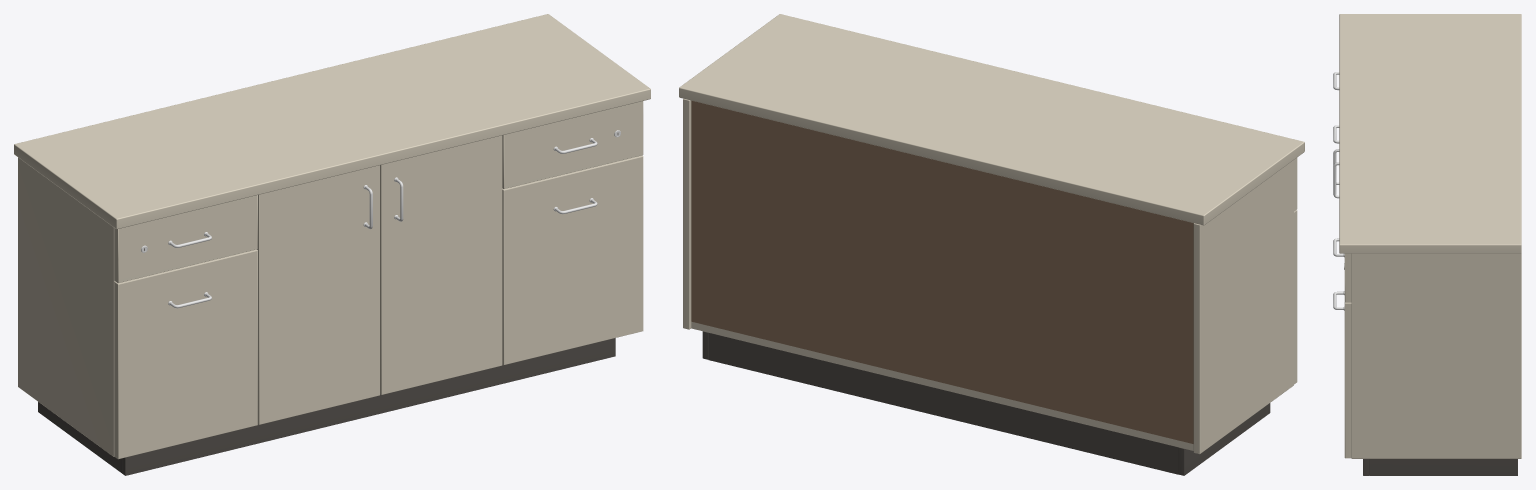
The model's file is Kit_Credenza_Laminate.fbx.
The picture shows the model from 3 angles, left to right: view 1: azimuth 30°, elevation 25°; view 2: azimuth 150°, elevation 25°; view 3: azimuth 270°, elevation 25°; orthographic projection. The views are drawn at different scales.
Visible parts, largest first — view 1: Kit_Credenza_Laminate_LOD0; view 2: Kit_Credenza_Laminate_LOD0; view 3: Kit_Credenza_Laminate_LOD0.
Part boxes in pixels (left/top/right/bottom): Kit_Credenza_Laminate_LOD0: left=14, top=14, right=650, bottom=475; Kit_Credenza_Laminate_LOD0: left=679, top=14, right=1304, bottom=475; Kit_Credenza_Laminate_LOD0: left=1333, top=14, right=1521, bottom=475.
Size of what is drawn, in the model's own units: 1.52 by 0.741 by 0.525.
